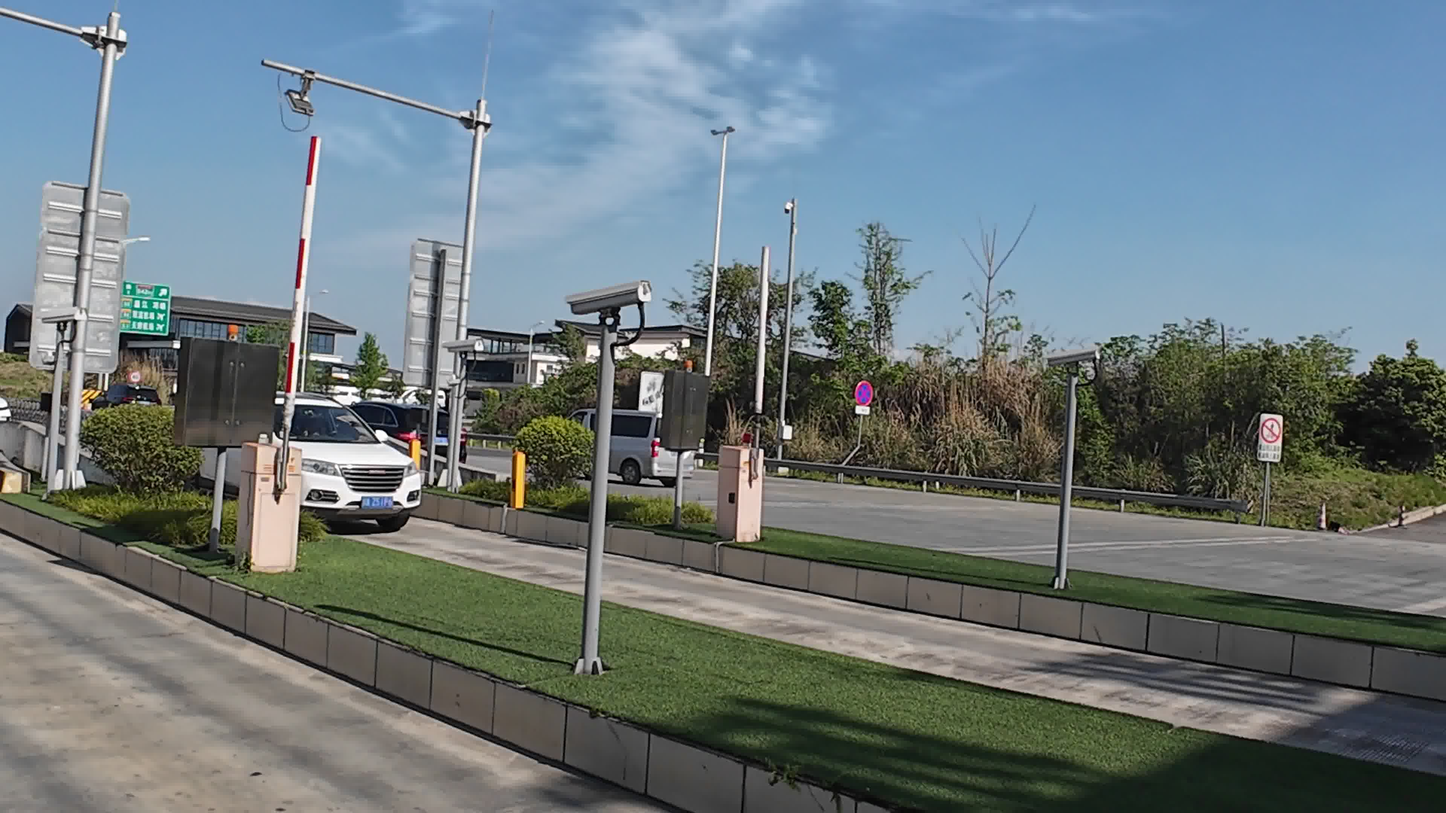lane_sign: (111, 280, 175, 330)
led_screen: (180, 323, 283, 456), (515, 415, 590, 502), (657, 355, 711, 452)
roadside_plant: (724, 252, 1446, 531), (72, 394, 236, 555)
warning_sign: (37, 187, 115, 360), (403, 239, 470, 381), (1251, 411, 1299, 469), (842, 375, 883, 420), (128, 364, 142, 385)
